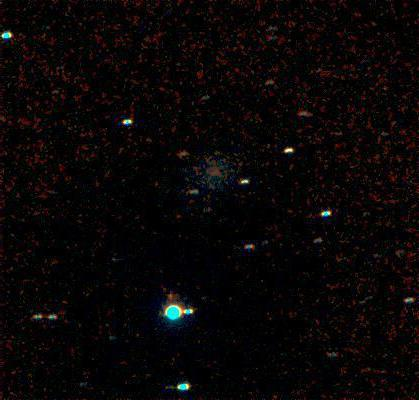star: (157, 281, 187, 311)
